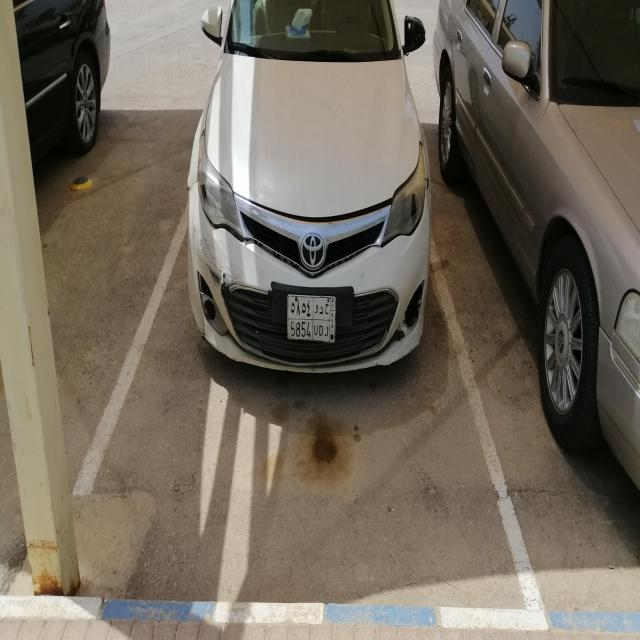license_plate: (286, 294, 337, 344)
